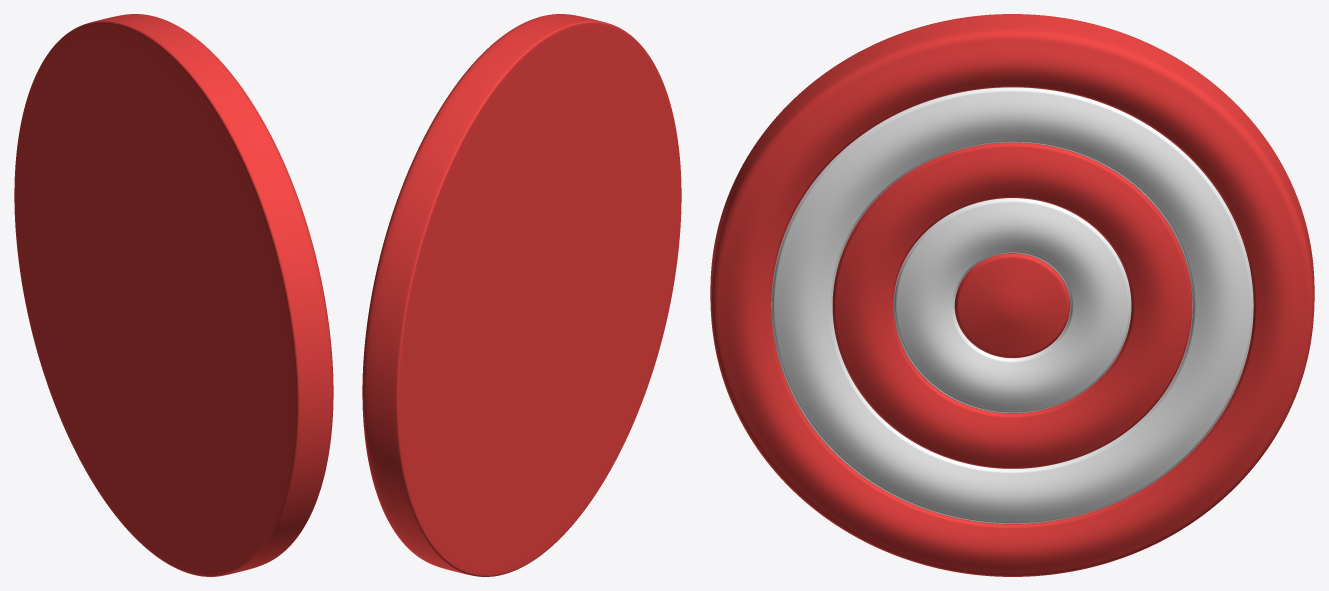
Rendered from target.glb.
The picture shows the model from 3 angles, left to right: view 1: azimuth 30°, elevation 25°; view 2: azimuth 150°, elevation 25°; view 3: azimuth 270°, elevation 25°; orthographic projection. The views are drawn at different scales.
Parts seen in each view (by area): view 1: Cylinder_arrow_red_0; view 2: Cylinder_arrow_red_0; view 3: Cylinder_arrow_red_0, Cylinder_target_white_0.
Part boxes in pixels (x1=…): Cylinder_arrow_red_0: x1=14, y1=14, x2=333, y2=576; Cylinder_arrow_red_0: x1=362, y1=14, x2=681, y2=576; Cylinder_arrow_red_0: x1=710, y1=14, x2=1314, y2=576; Cylinder_target_white_0: x1=771, y1=87, x2=1253, y2=524.
Size of the model in its own units: 0.1918 by 1.99 by 1.99.
